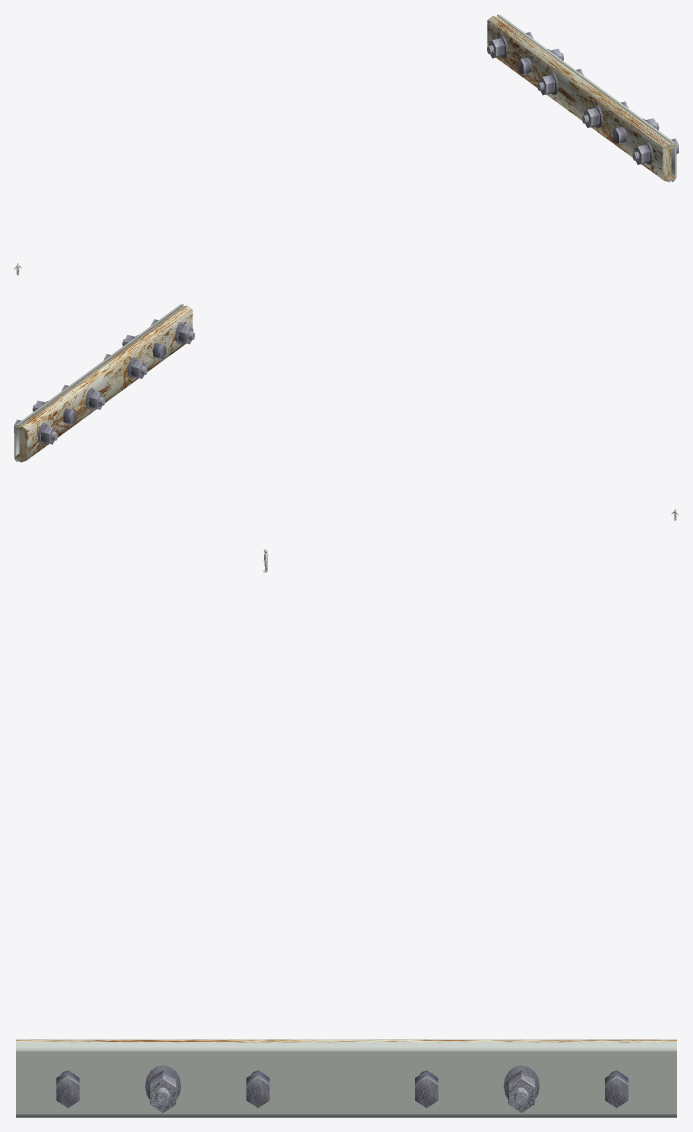
Rendered from 螺母垫板.glb.
3 renders of one model, top to bottom at view 1: azimuth 30°, elevation 25°; view 2: azimuth 150°, elevation 25°; view 3: azimuth 270°, elevation 25°, orthographic. The views are drawn at different scales.
Parts seen in each view (by area): view 1: 螺母垫板; view 2: 螺母垫板; view 3: 螺母垫板.
Boxes of the visible parts, x1,y1,x2,y2 form: 螺母垫板: (487,14,678,182); 螺母垫板: (14,304,194,462); 螺母垫板: (16,1039,676,1117).
Size of the model in its own units: 929 by 57.22 by 458.
Materials: 3 (2 with a texture image).
